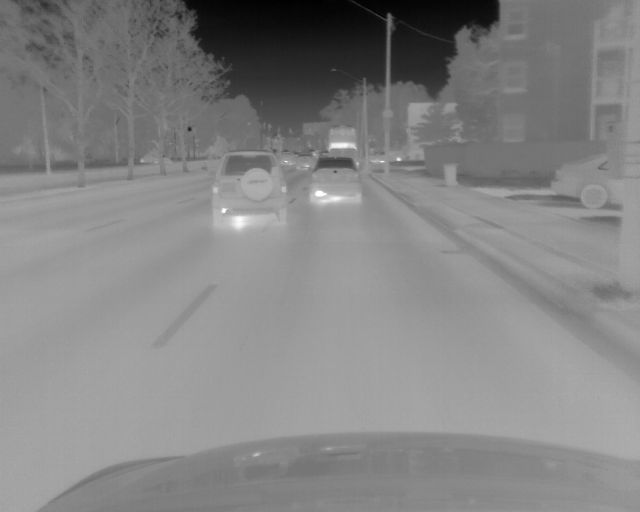car: (209, 150, 287, 230), (548, 150, 638, 209), (306, 157, 362, 207), (327, 125, 358, 160), (137, 147, 166, 164), (295, 156, 313, 171), (280, 149, 293, 165)
